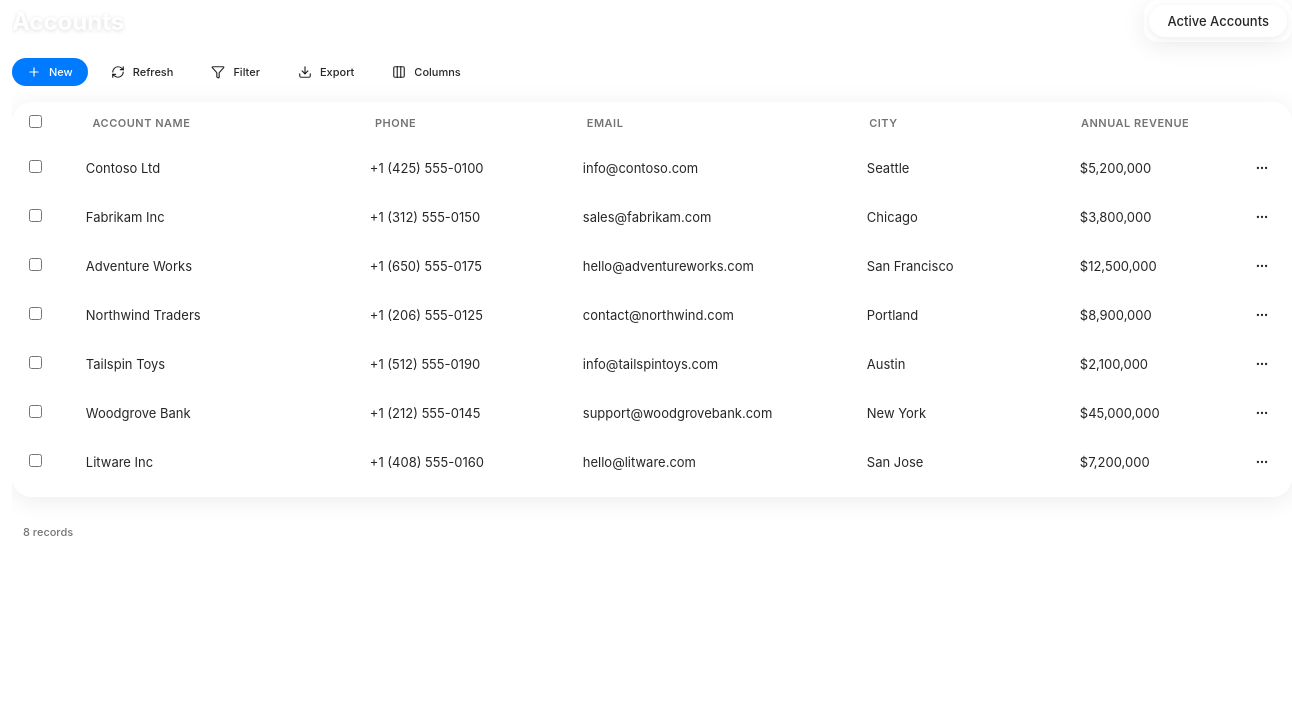
EntityView component › sorts records when column header is clicked
expect the text "Account Name" is shown: met, box [92, 116, 190, 130]
Click column header to sort
Click the column heading "Account Name". click: point(141, 123)
box: [76, 103, 359, 144]
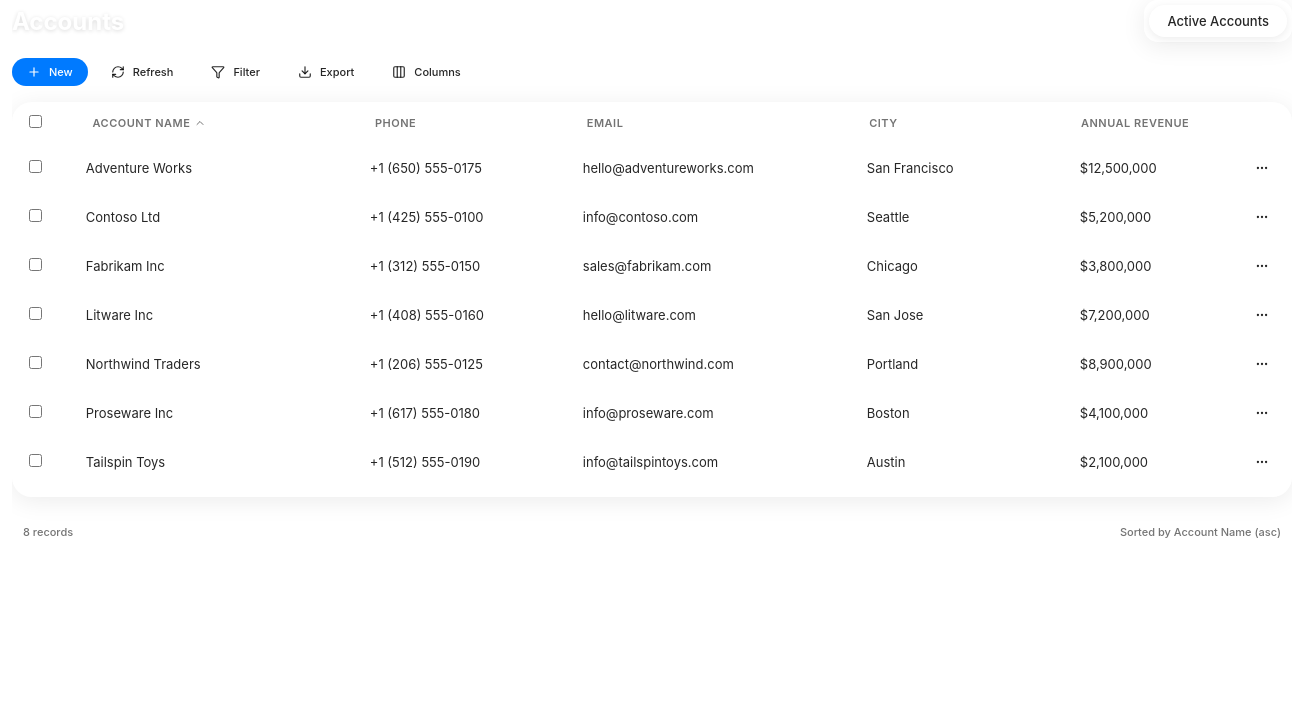
expect the text "Sorted by Account Name (asc)" is shown: met, box [1109, 521, 1291, 543]
